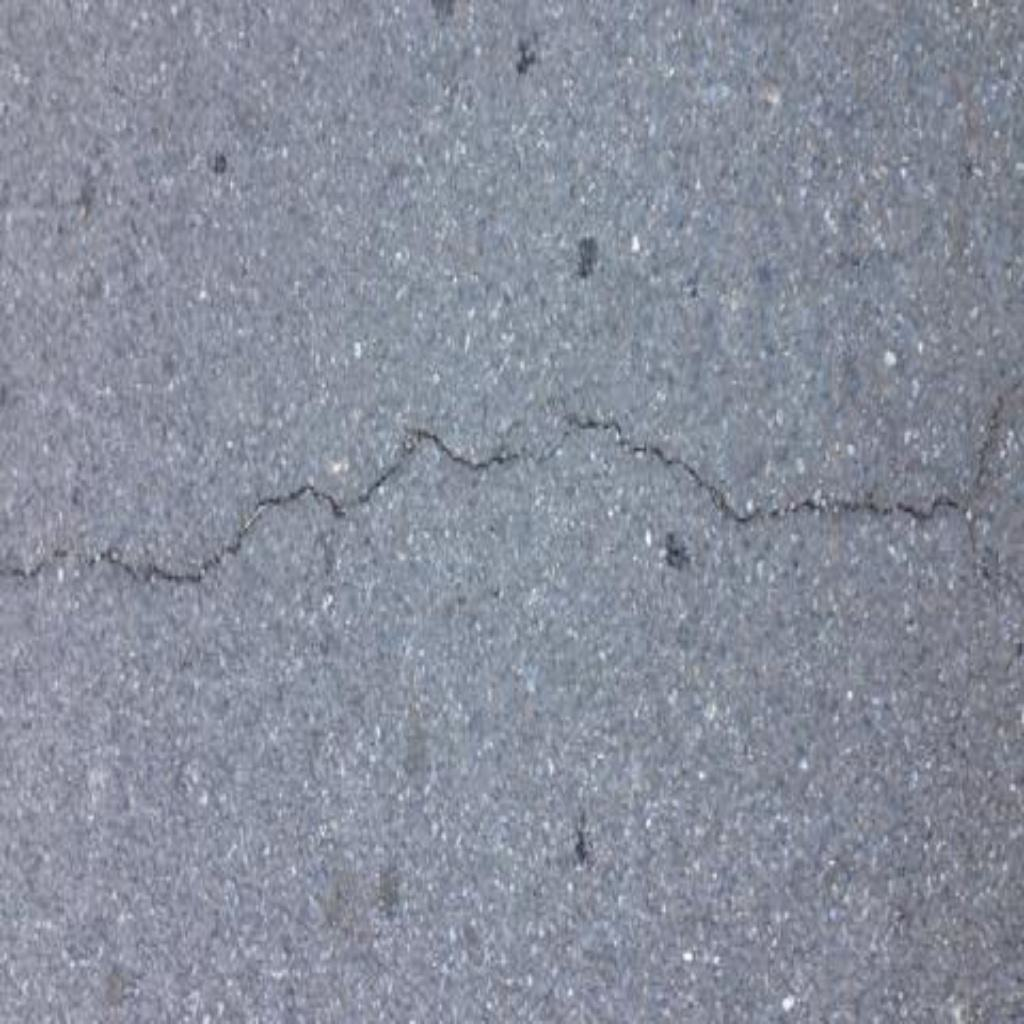Crack: (1, 378, 1024, 584)
